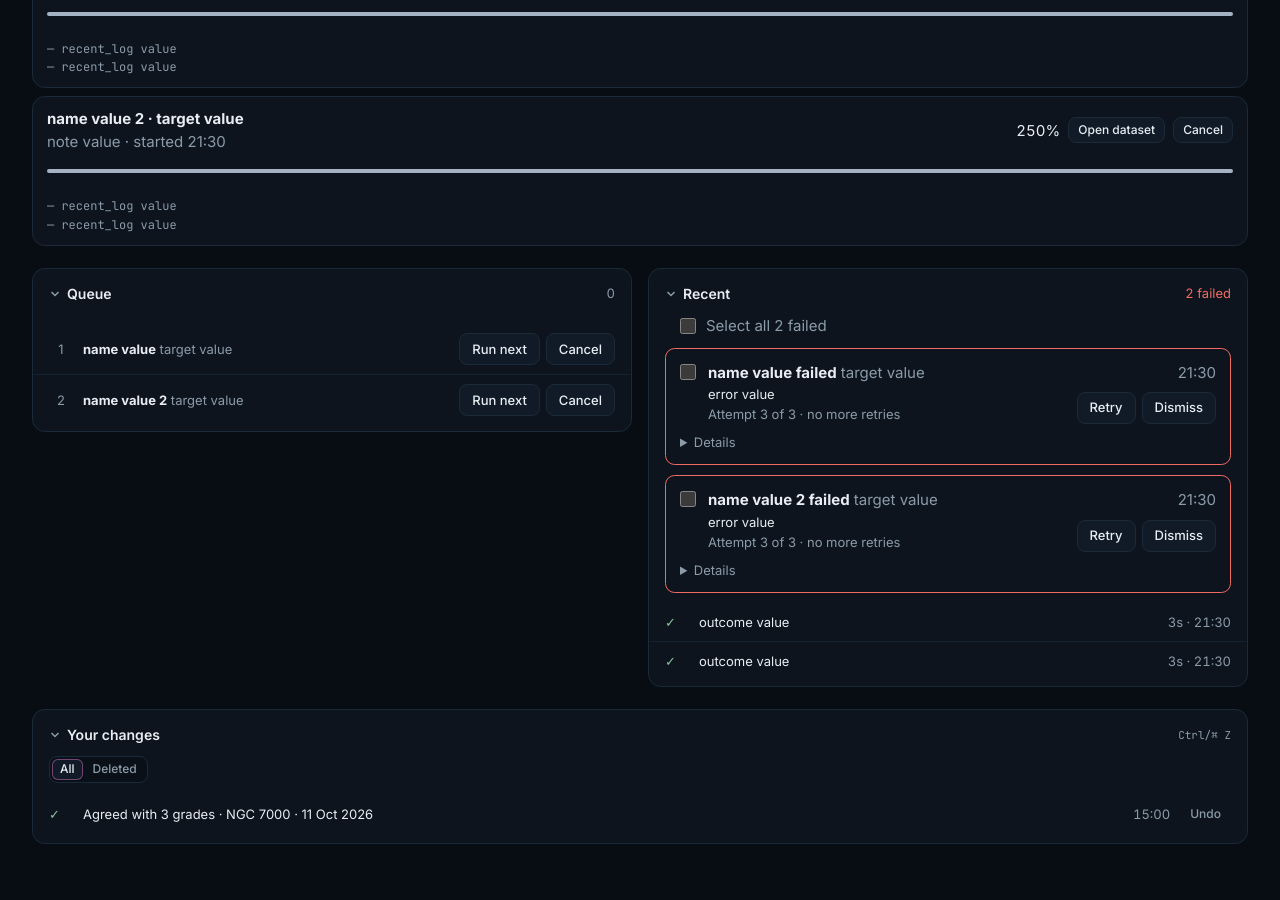
Test: undo (spec 016) › Activity lists your changes and undoes one
The image size is (1280, 900).
(page scrolled)
Check: the text "Agreed with 3 grades · NGC 7000 · 11 Oct 2026" is shown, box [83,806,373,822]
Click the button "Undo" at (1206, 814), box [1180,802,1231,828]
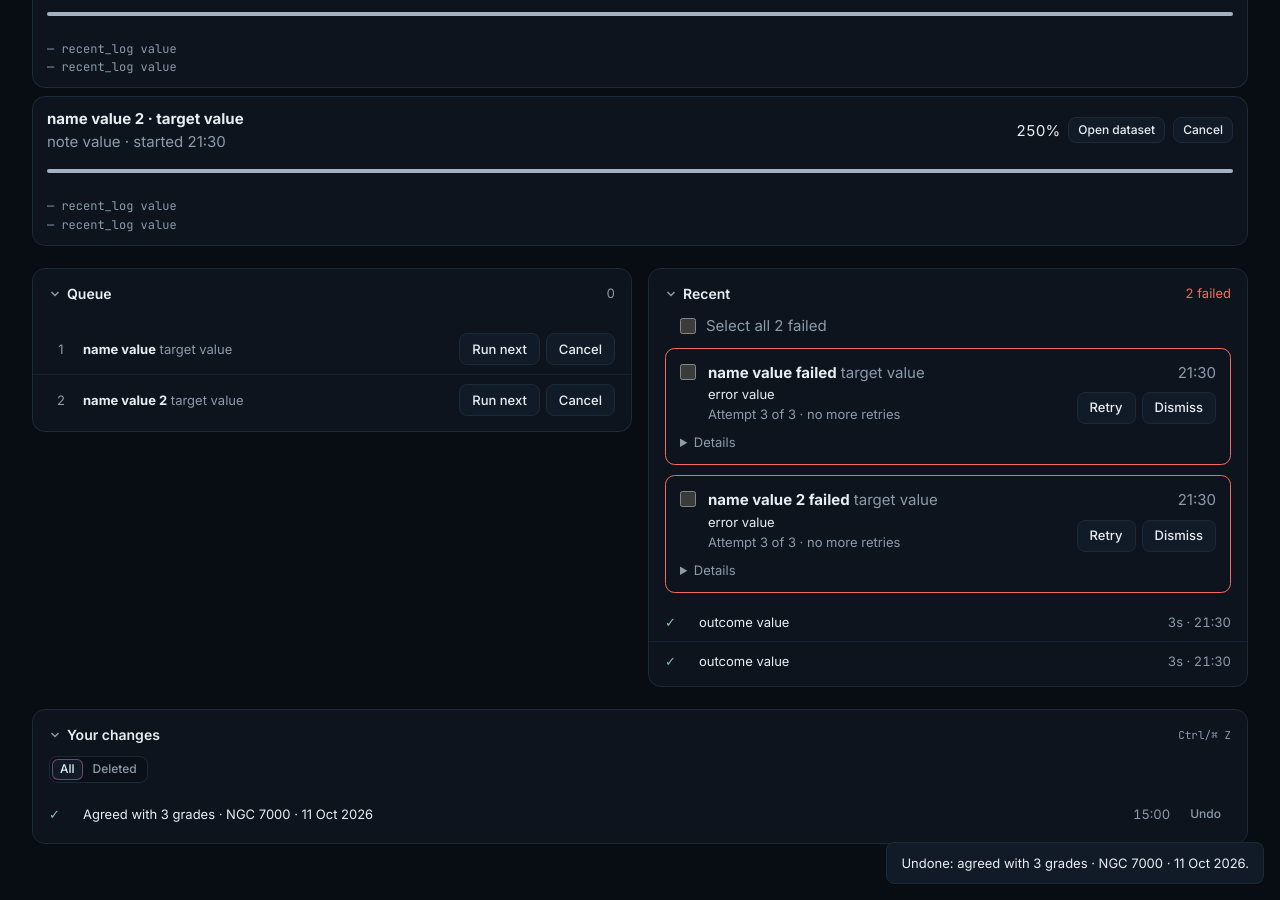
Check: the text "Undone: agreed with 3 grades · NGC 7000 · 11 Oct 2026." is shown, box [901,853,1249,873]
